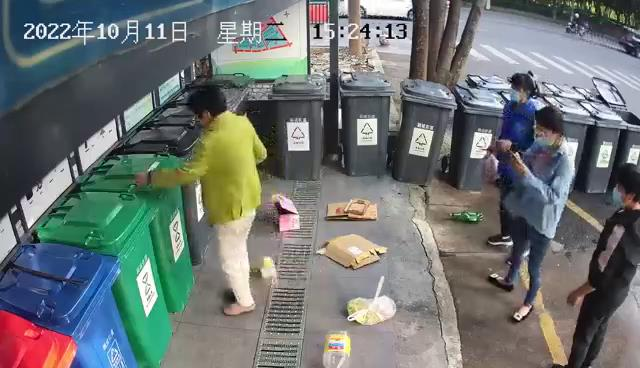garbage-bag: (345, 274, 398, 326), (261, 254, 276, 280)
person: (132, 83, 268, 317), (549, 162, 639, 368)
suliaozhipin: (320, 329, 352, 368), (446, 210, 482, 224)
worker: (486, 69, 575, 326)
zhizhipin: (314, 231, 390, 271), (324, 198, 380, 222), (270, 191, 301, 233)
